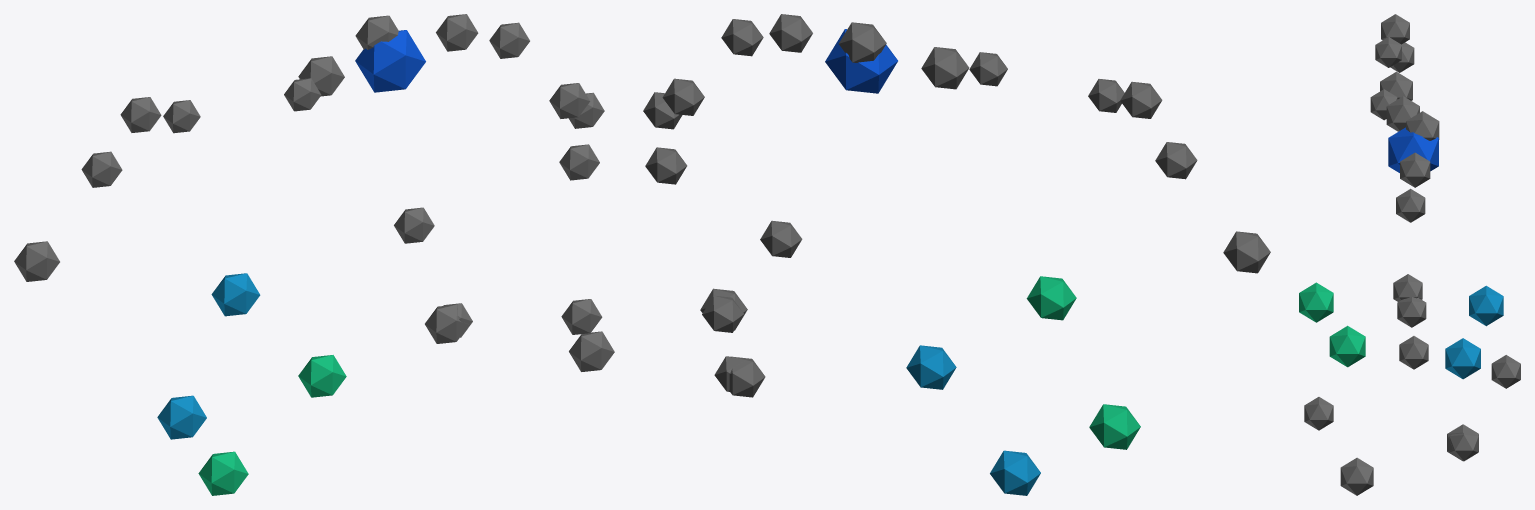
3 views of the same model, side by side, from view 1: azimuth 30°, elevation 25°; view 2: azimuth 150°, elevation 25°; view 3: azimuth 270°, elevation 25° (orthographic). The views are drawn at different scales.
Parts seen in each view (by area): view 1: 03_07_06; view 2: 03_07_06; view 3: 03_07_06.
Boxes of the visible parts, x1,y1,x2,y2 form: 03_07_06: [14, 14, 614, 495]; 03_07_06: [643, 14, 1270, 495]; 03_07_06: [1299, 14, 1520, 495].
Bounding box in the file's own units: 0.6522 × 0.4177 × 0.2545.
